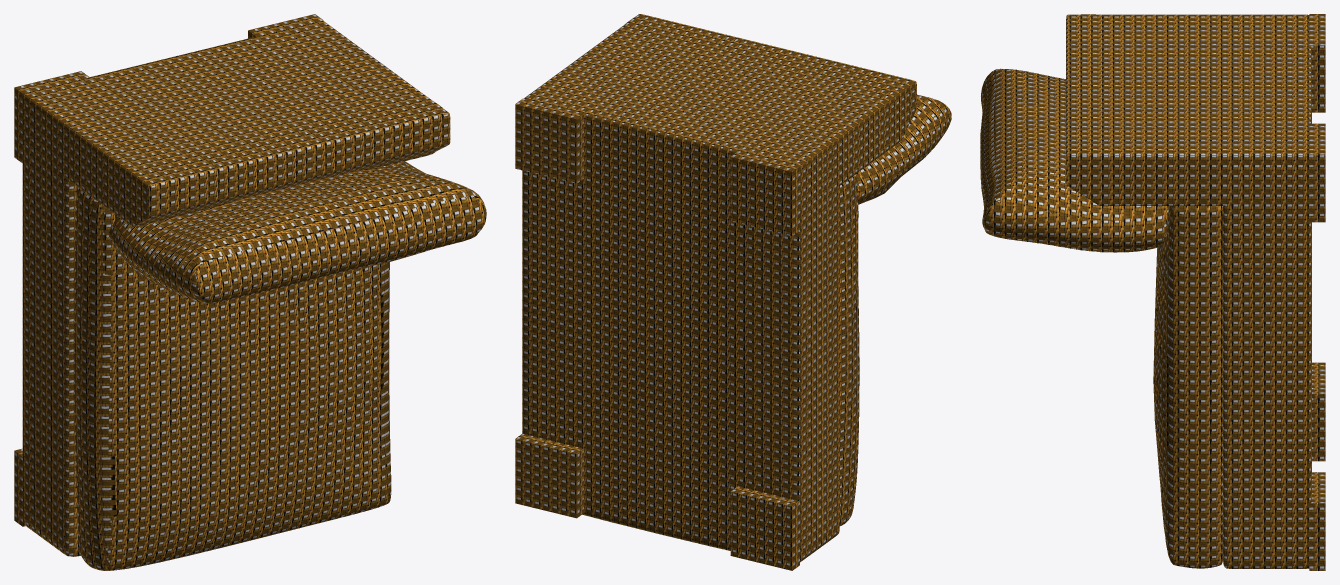
The model's file is chair.obj.
3 views of the same model, side by side, from view 1: azimuth 30°, elevation 25°; view 2: azimuth 150°, elevation 25°; view 3: azimuth 270°, elevation 25° (orthographic). The views are drawn at different scales.
Parts seen in each view (by area): view 1: Box1471, Box1477, Box1473, Box1478, Box1476, Box1472, Box1475; view 2: Box1478, Box1477, Box1471, Box1476, Box1472, Box1475, Box1474, Box1473; view 3: Box1477, Box1478, Box1471, Box1473, Box1475, Box1476, Box1474, Box1472.
Part boxes in pixels (x1,y1,x2,y2): Box1471: (74, 187, 391, 570); Box1477: (21, 21, 450, 226); Box1473: (108, 161, 486, 303); Box1478: (22, 145, 80, 556); Box1476: (14, 71, 89, 163); Box1472: (14, 448, 25, 526); Box1475: (248, 14, 323, 38); Box1478: (522, 155, 839, 562); Box1477: (524, 14, 916, 214); Box1471: (839, 174, 859, 525); Box1476: (730, 151, 799, 236); Box1472: (730, 486, 799, 570); Box1475: (515, 98, 584, 183); Box1474: (515, 433, 583, 518); Box1473: (856, 94, 951, 204); Box1477: (1066, 14, 1311, 205); Box1478: (1222, 113, 1311, 568); Box1471: (1153, 206, 1222, 568); Box1473: (980, 68, 1169, 252); Box1475: (1309, 123, 1325, 222); Box1476: (1309, 14, 1325, 112); Box1474: (1309, 472, 1325, 570); Box1472: (1312, 362, 1325, 461).
Size of the model in its own units: 79.16 by 109 by 81.26.
